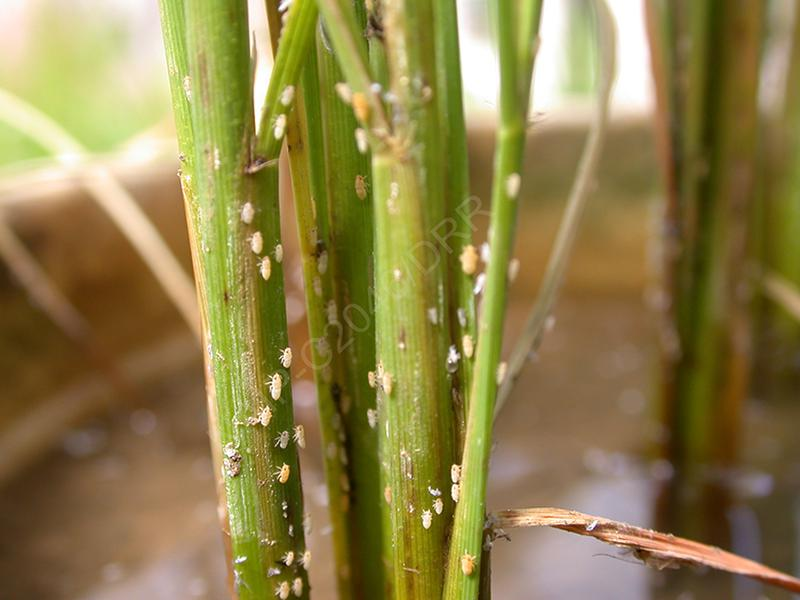White_backed_plant_hopper: (413, 224, 500, 594), (216, 331, 317, 597), (231, 73, 449, 195)
